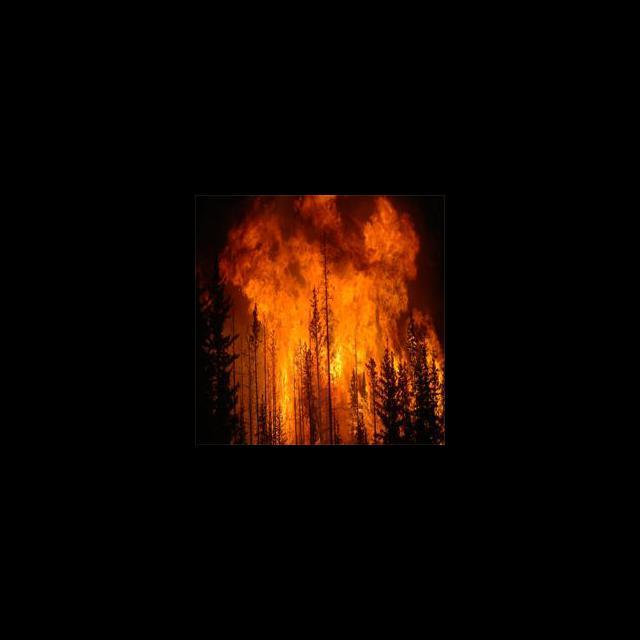Fire: (224, 195, 442, 444)
